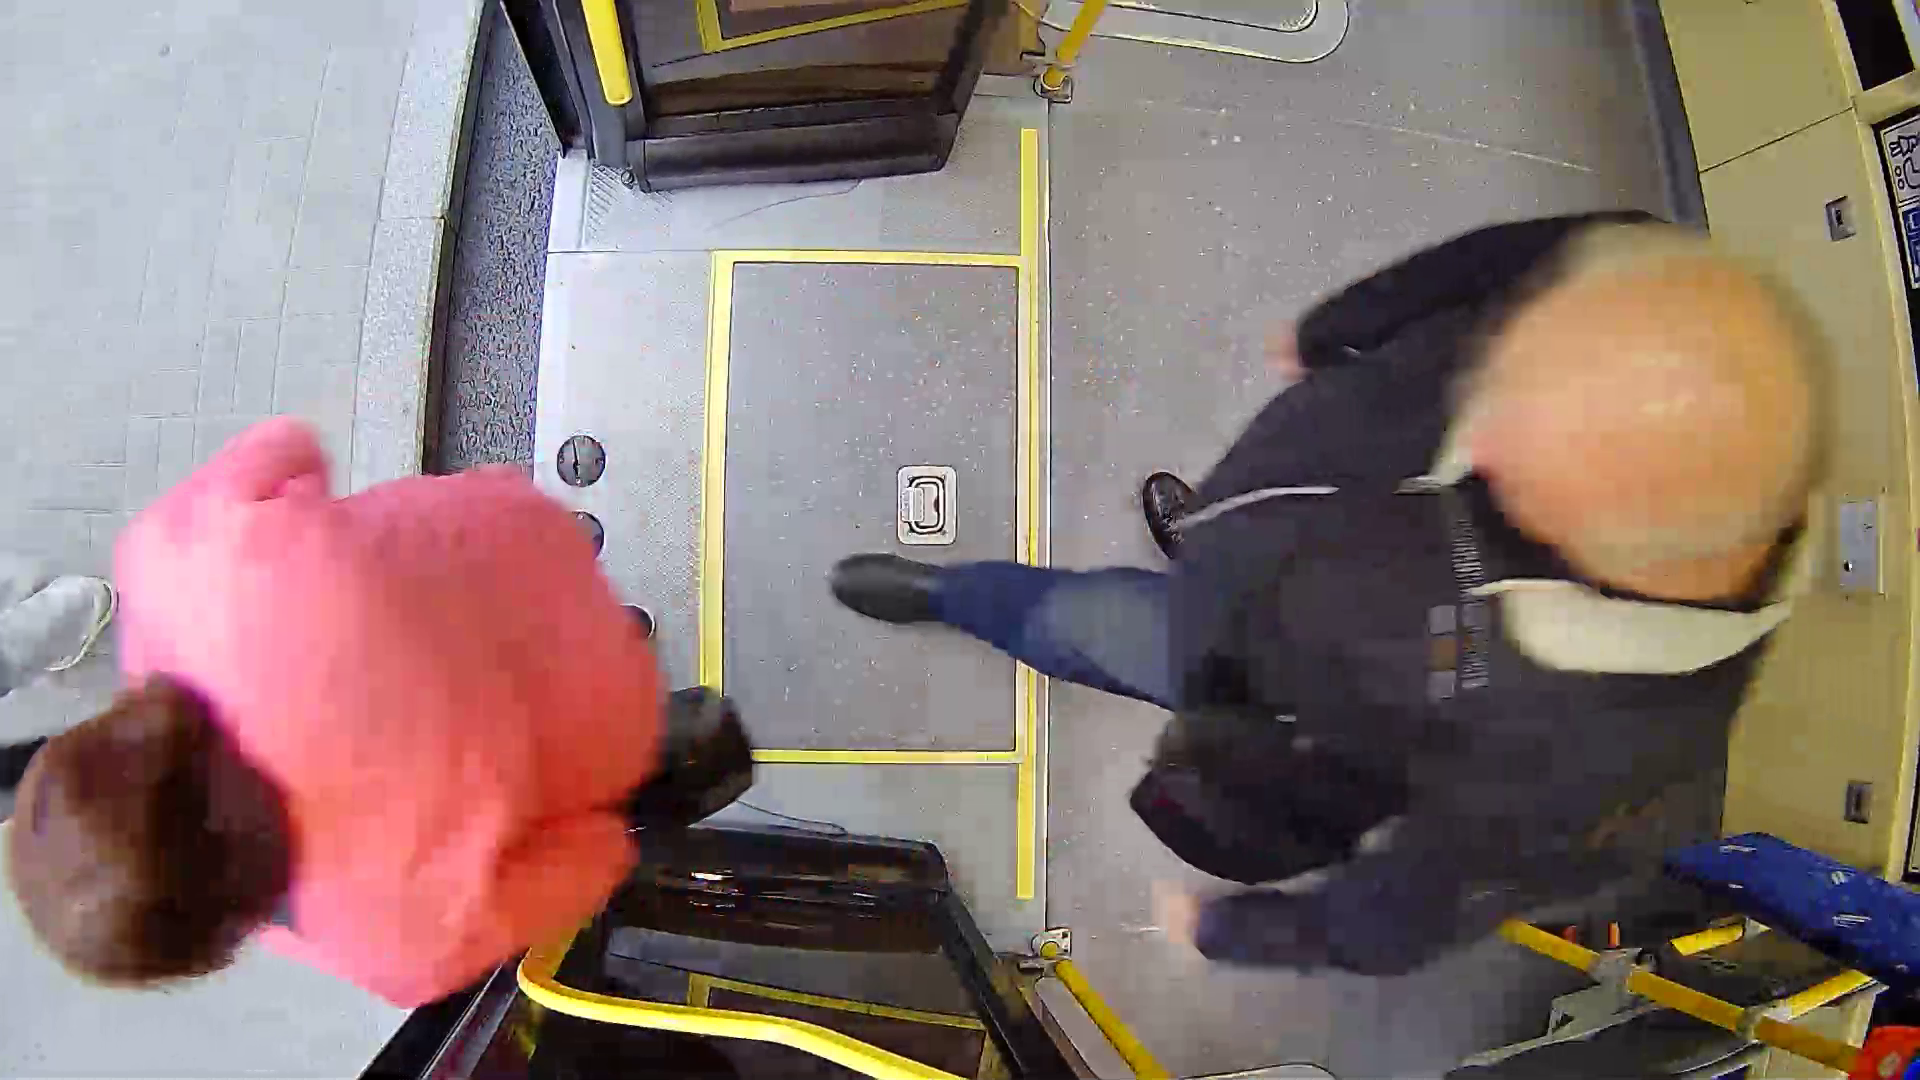person: (1151, 236, 1836, 979), (68, 464, 747, 978)
